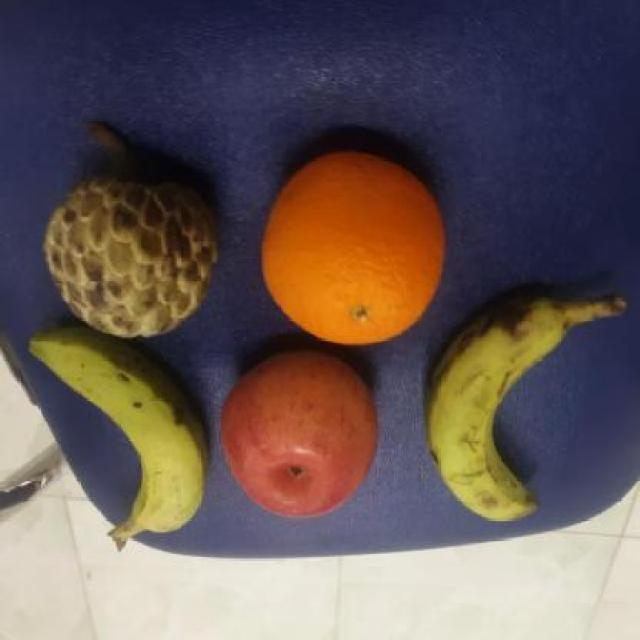apple: (212, 346, 382, 522)
banana: (22, 328, 210, 540), (422, 292, 562, 526)
oren: (257, 144, 448, 348)
sugar apple: (39, 176, 219, 342)
